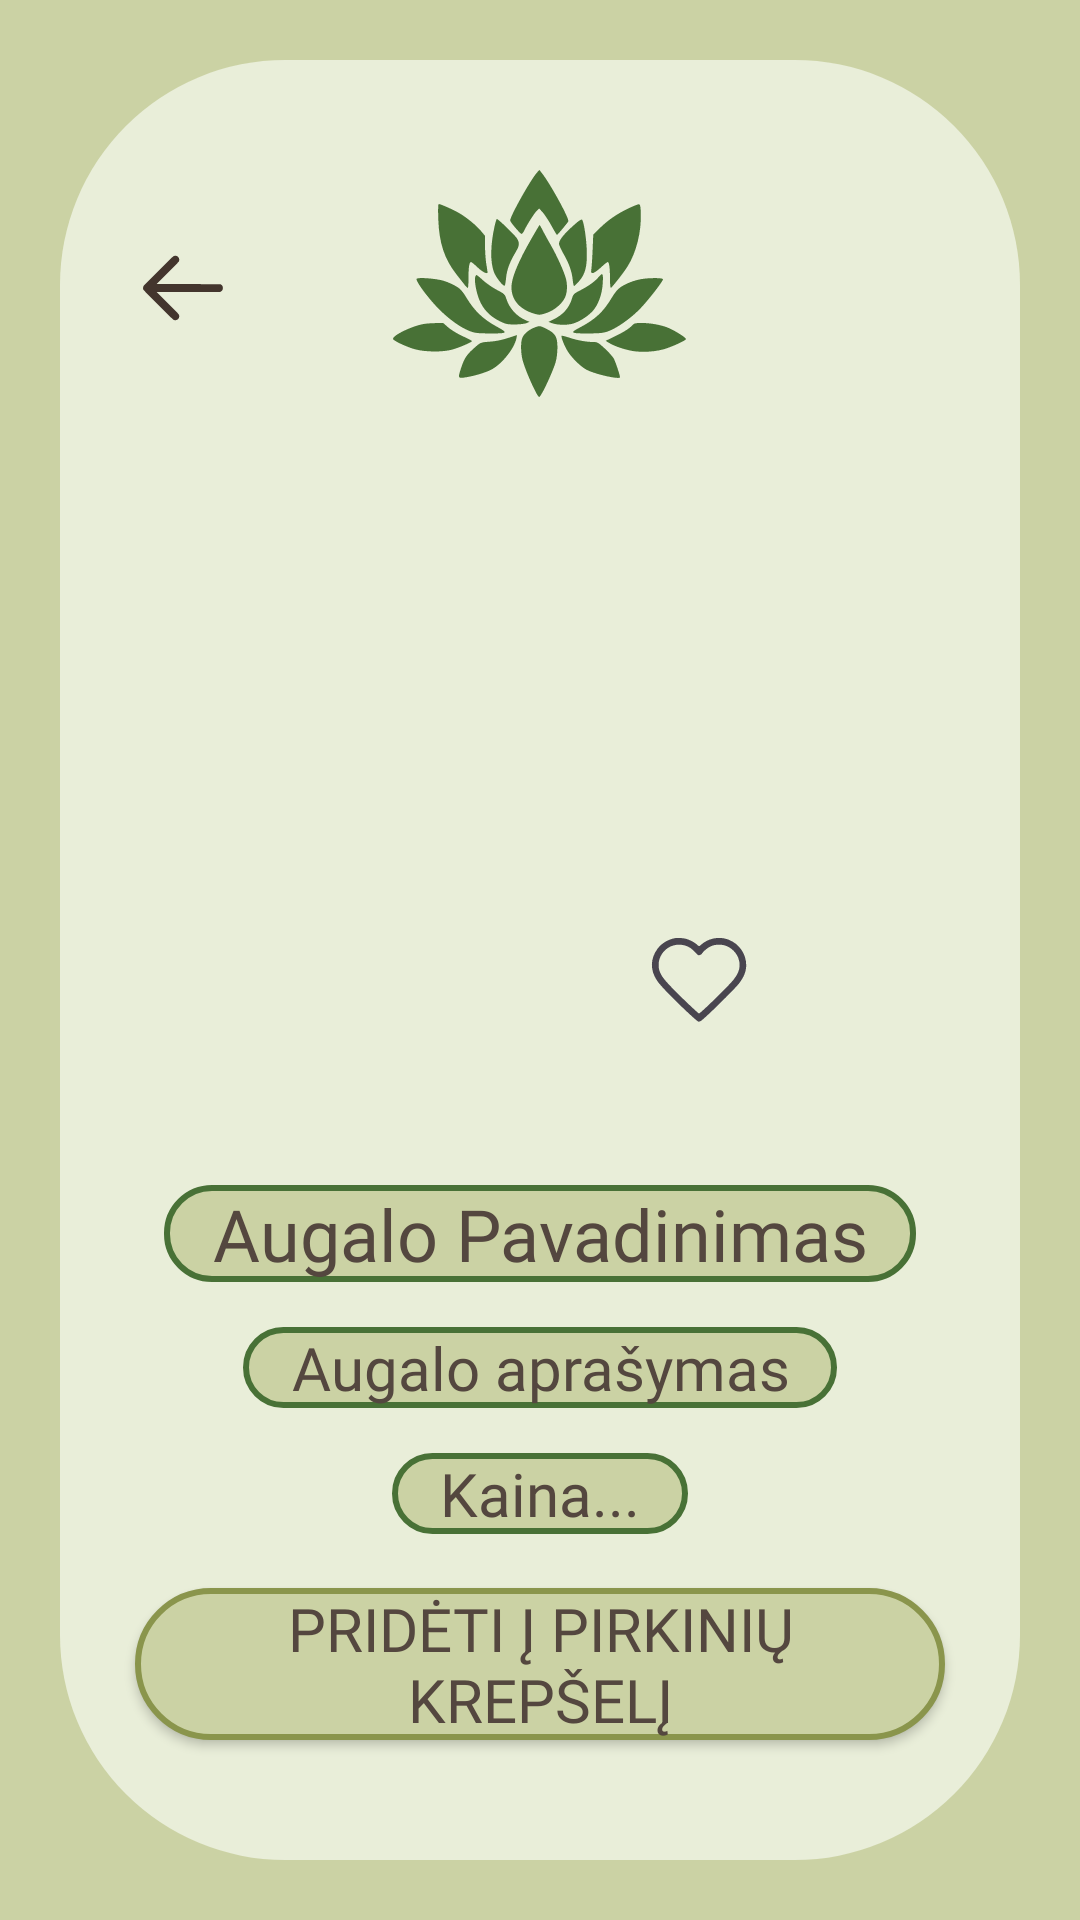

Screen size 1080 × 1920. Icon name, then its center in pixels as [x,y]:
Heart icon: [699,980]
Lotus icon: [539,283]
